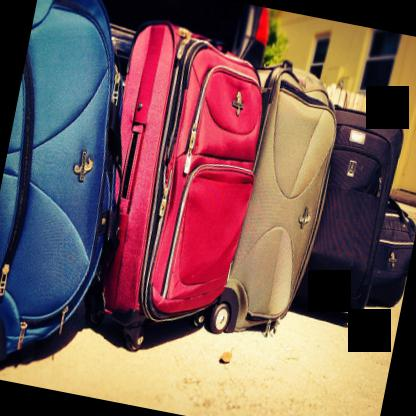suitcase: (85, 19, 262, 350), (0, 0, 116, 365), (206, 62, 336, 336), (294, 104, 403, 327), (369, 192, 416, 294)
